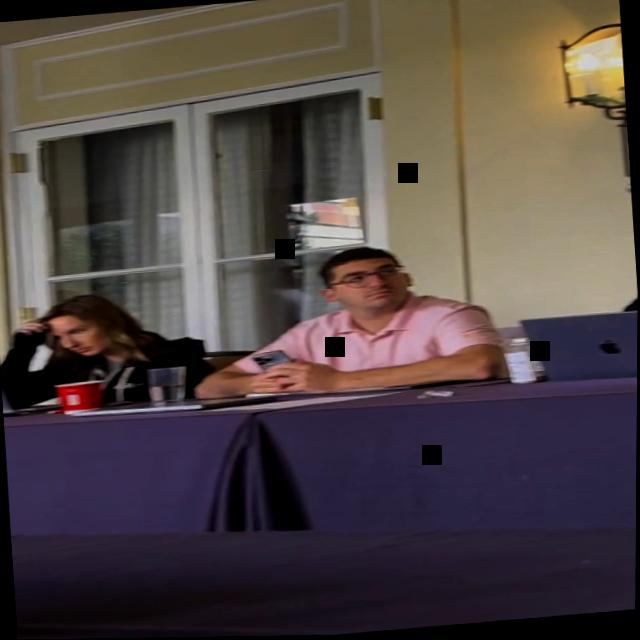NO-Mask: (324, 252, 416, 318), (46, 312, 106, 360)
